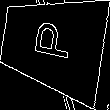P_W: (30, 22, 76, 68)
